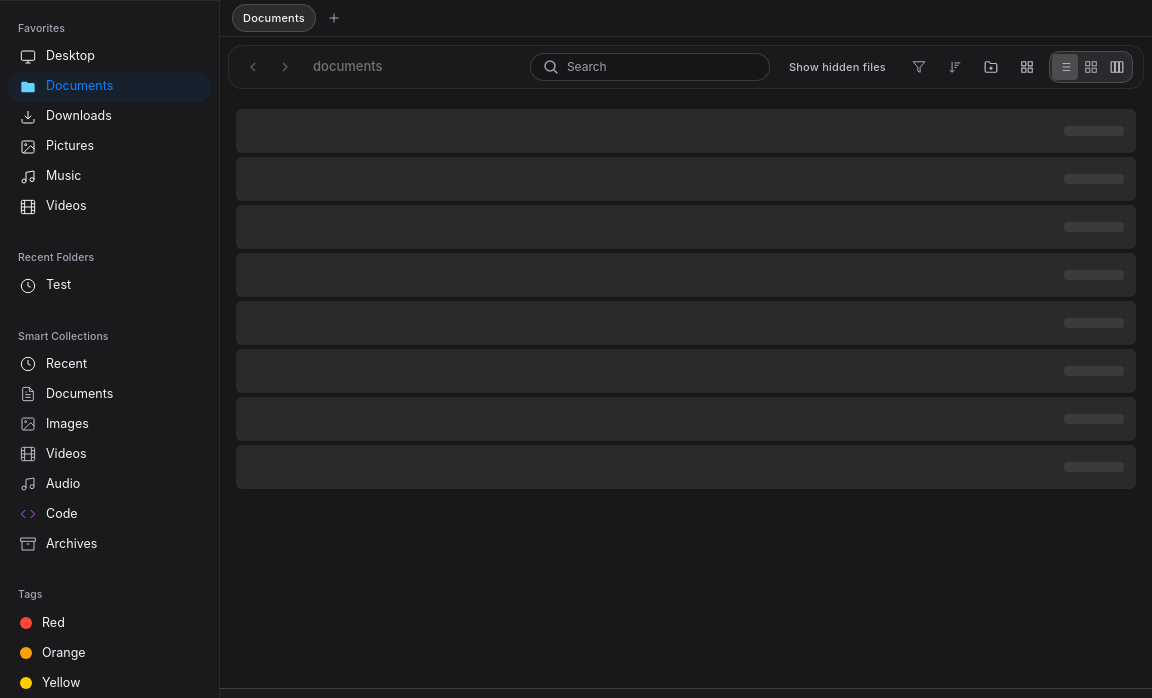
Test case: ignores a stale folder response after moving to a new location
Click the button "Downloads". click: (110, 117)
box: [8,102,211,132]
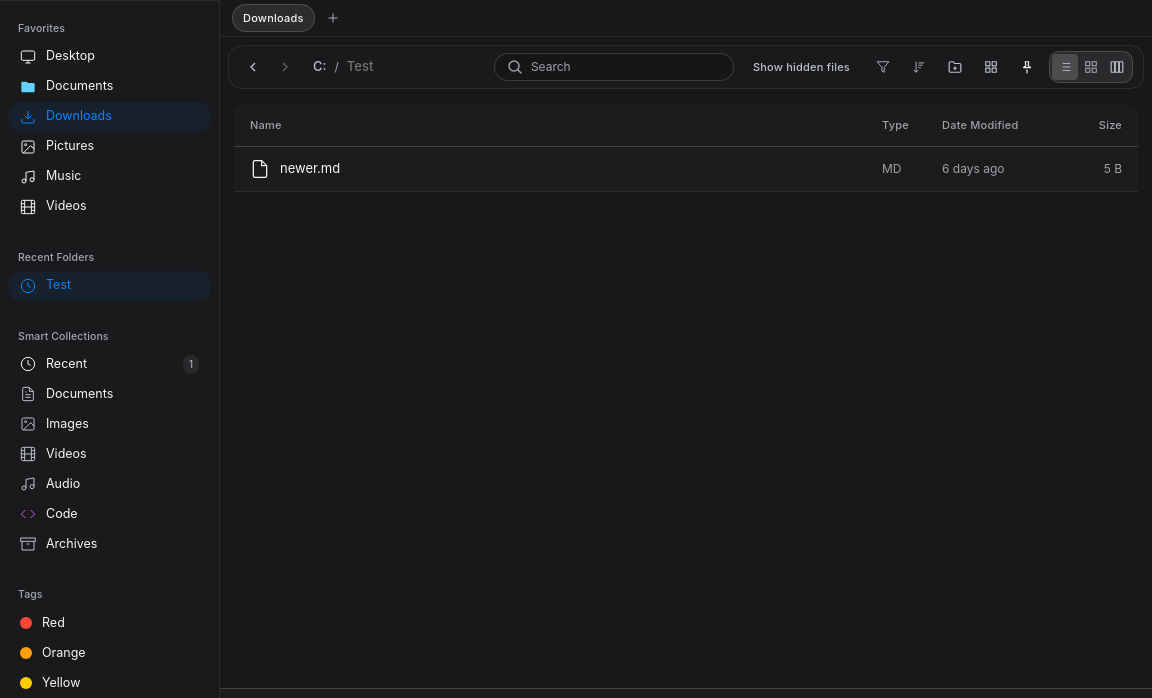
Check: the text "newer.md" is shown, box [280,159,340,178]
